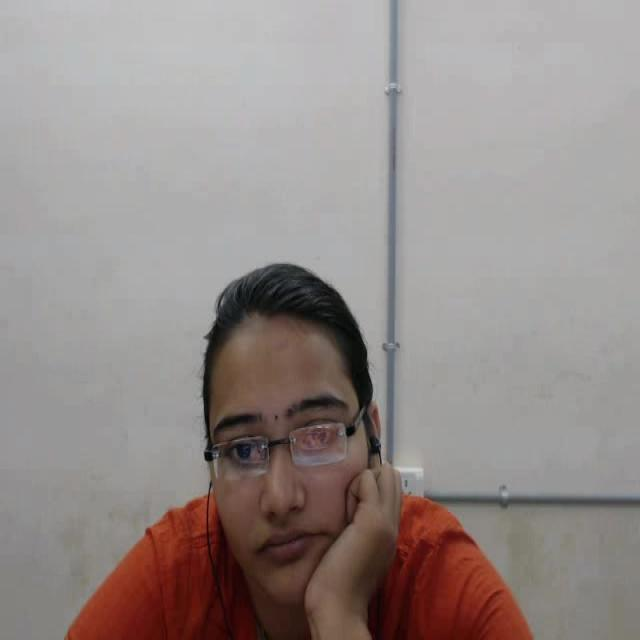Bored: (143, 242, 462, 640)
